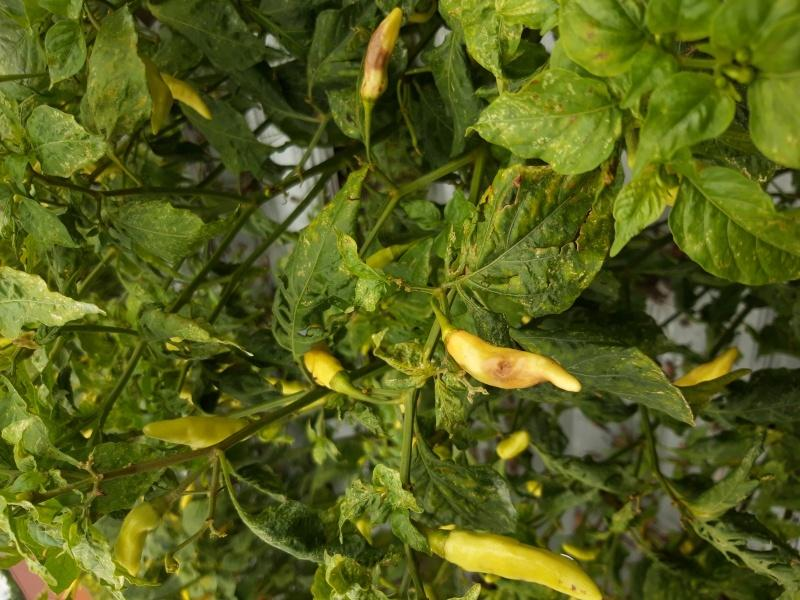antraknosa: (447, 330, 581, 392), (361, 6, 400, 98)
cabai_normal: (439, 525, 601, 596), (114, 499, 167, 571), (146, 415, 252, 448), (302, 321, 340, 389)
